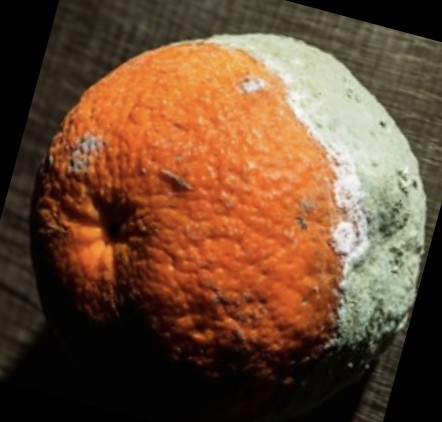rotten_orange: (44, 32, 425, 353)
